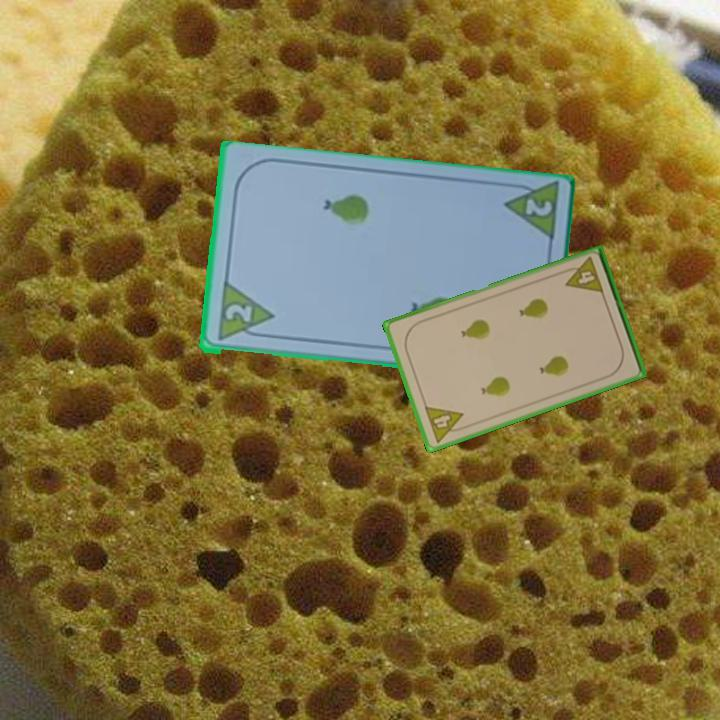2p: (221, 301, 255, 326), (521, 195, 555, 220)
4p: (421, 402, 470, 445), (558, 254, 606, 297)
